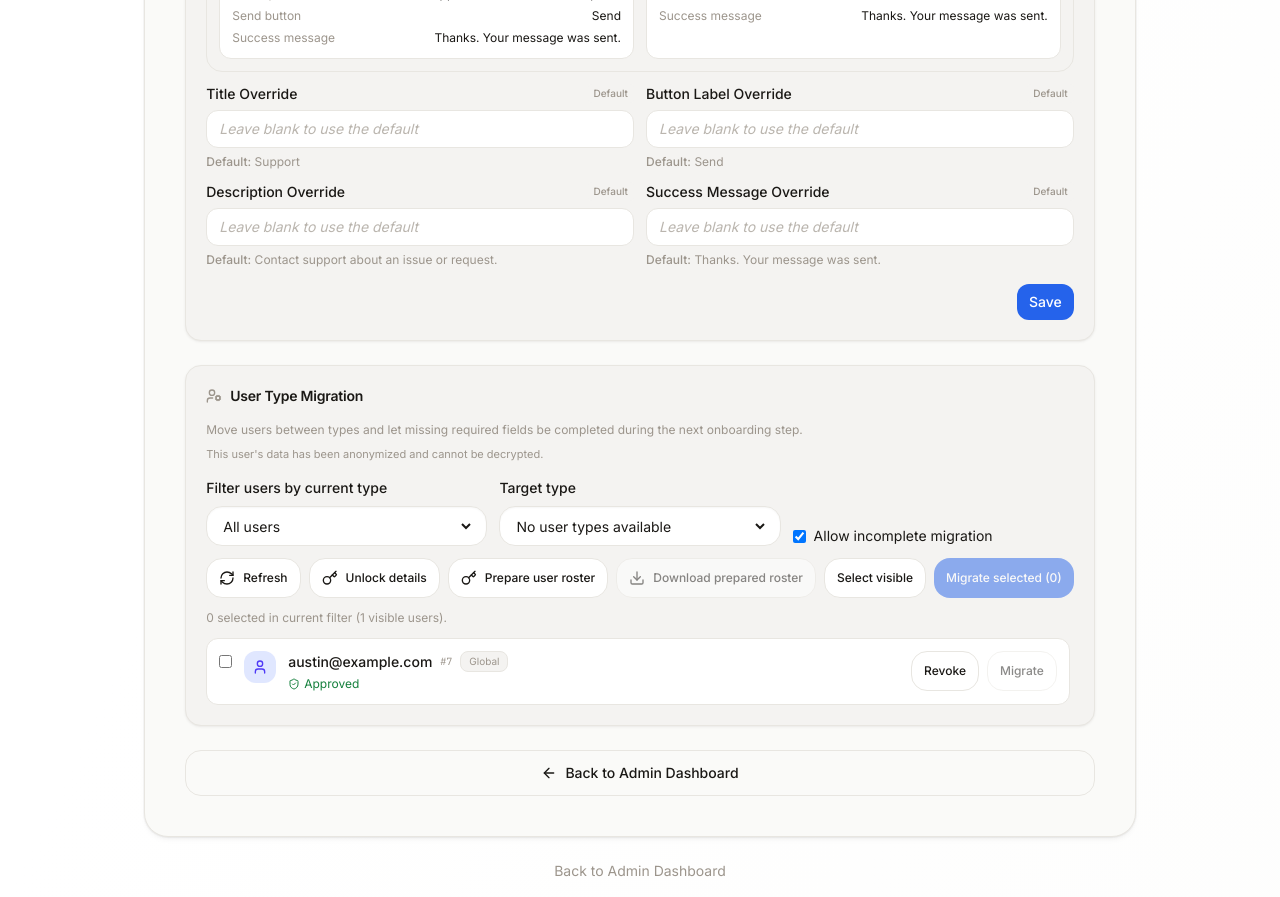
Test: AdminUserConfig › does not audit or download when one encrypted roster value cannot be prepared
(page scrolled)
Click the button "Prepare user roster".
click(528, 578)  # box [448,558,608,598]
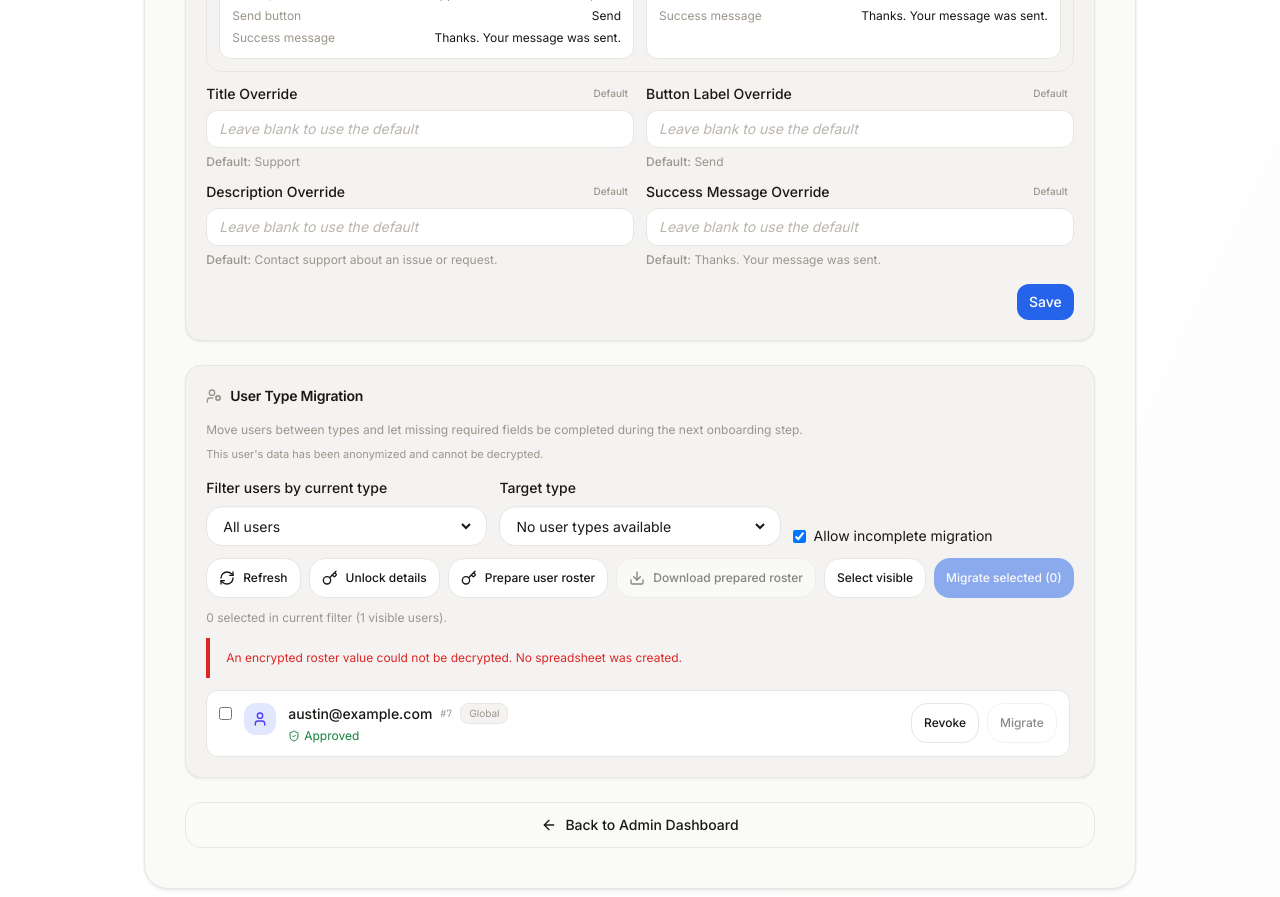
Expected: the button "Download prepared roster" is disabled, [616,558,816,598]
Now the element named "User roster export failed" shows "An encrypted roster value could not be decrypted", box [226,650,682,665]
